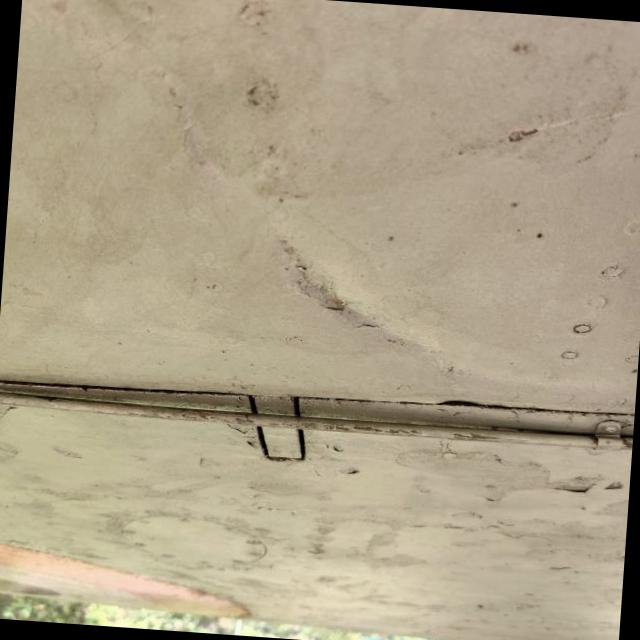dent: (213, 170, 474, 383)
